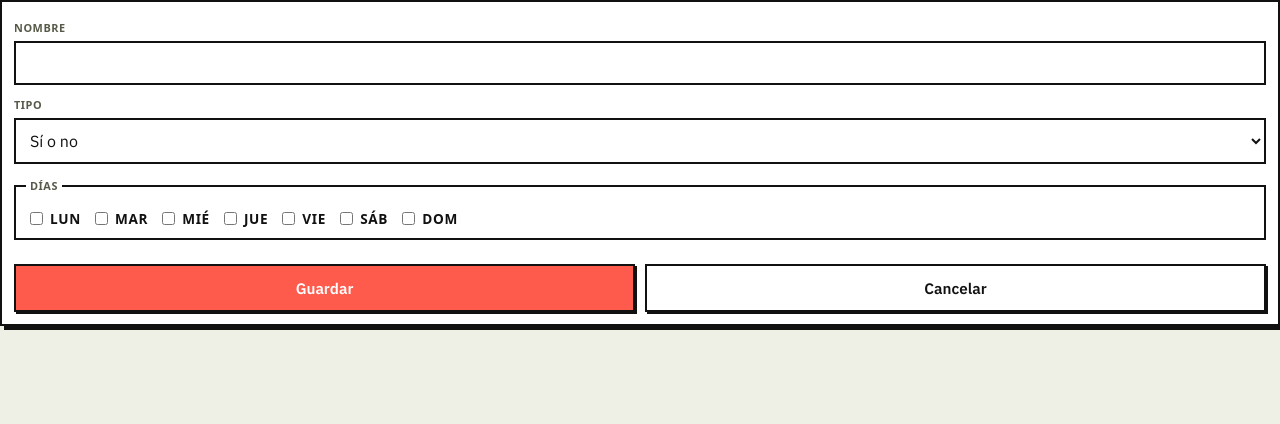
HabitForm › pide objetivo solo cuando el tipo es cantidad
Expected: the field labelled "objetivo" is not shown
Select "Cantidad" in the dropdown labelled "Tipo" at (640,141), box x1=14 y1=118 x2=1266 y2=164
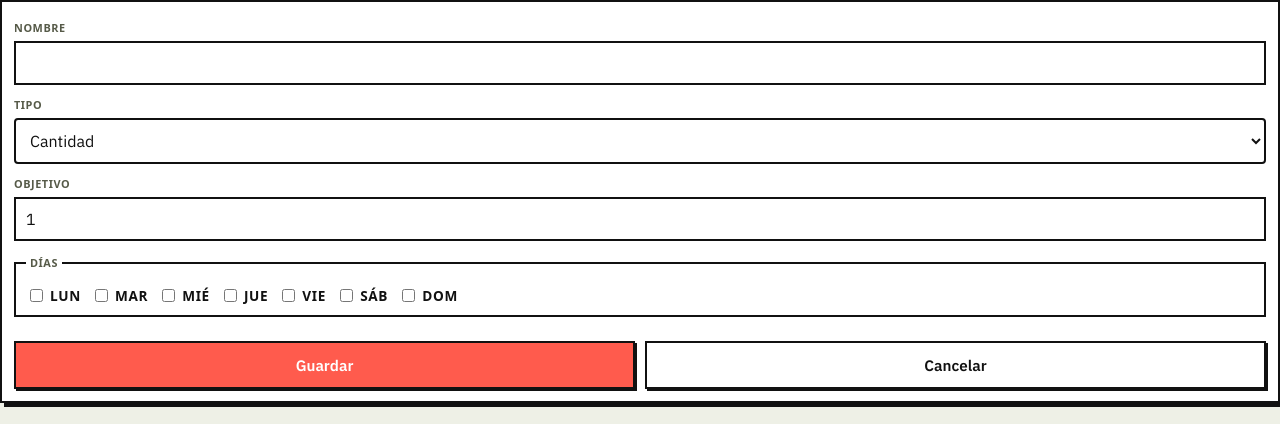
Result: the number field labelled "Objetivo" is shown at x1=14 y1=197 x2=1266 y2=241
